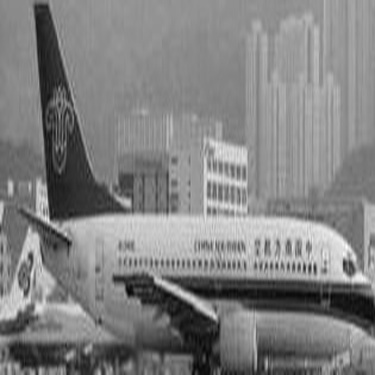airplane: (3, 2, 368, 351), (156, 287, 374, 371), (9, 289, 137, 368), (4, 177, 51, 334)
